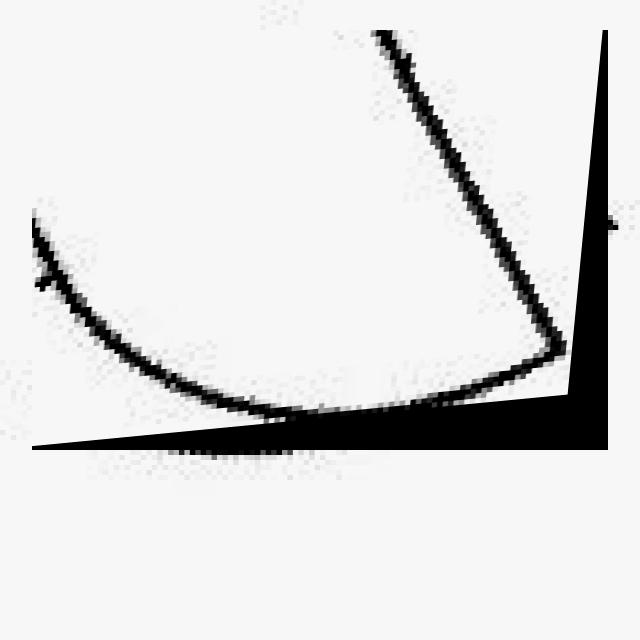door: (32, 30, 608, 450)
